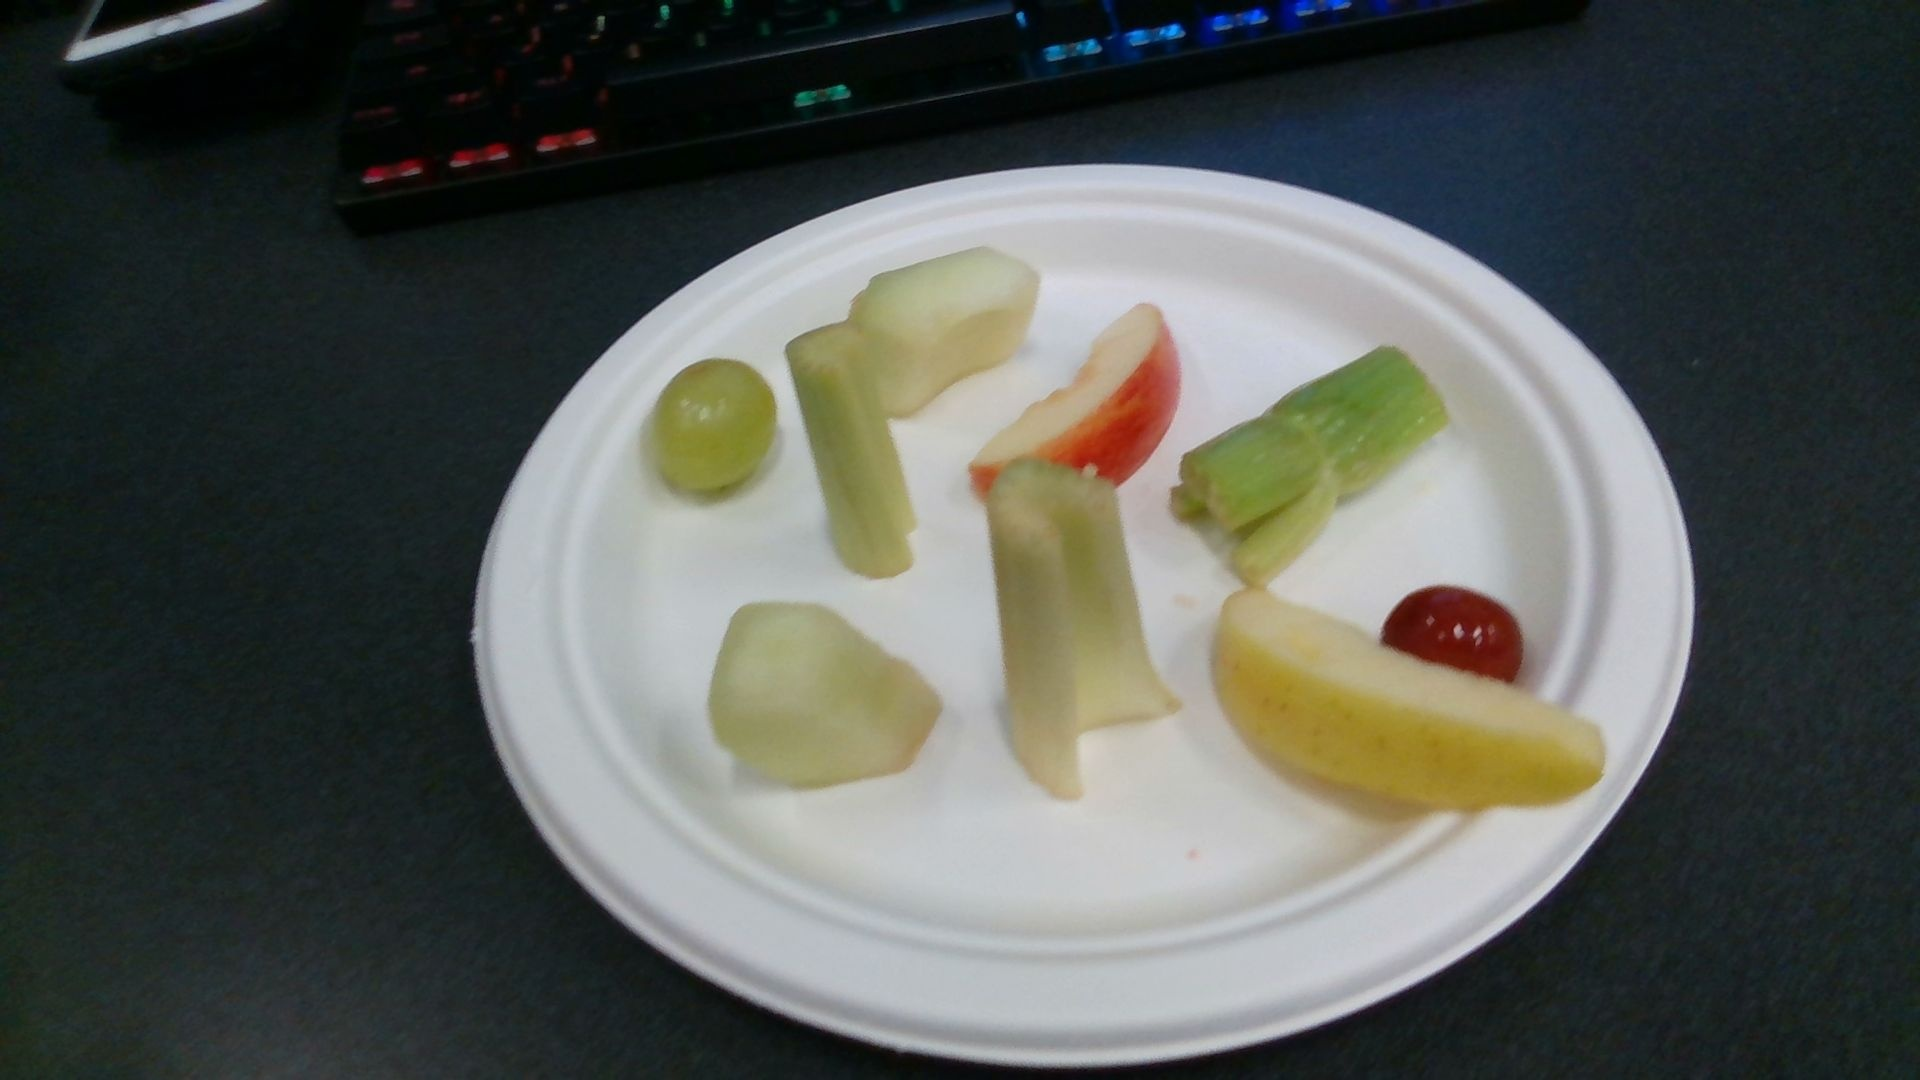apple: (1217, 591, 1607, 804), (969, 305, 1179, 491)
cantalope: (712, 601, 939, 785), (851, 247, 1035, 410)
celery: (1172, 345, 1449, 595), (986, 456, 1180, 798), (785, 318, 915, 578)
grape_green: (651, 360, 774, 495)
grape_purple: (1382, 588, 1524, 688)
